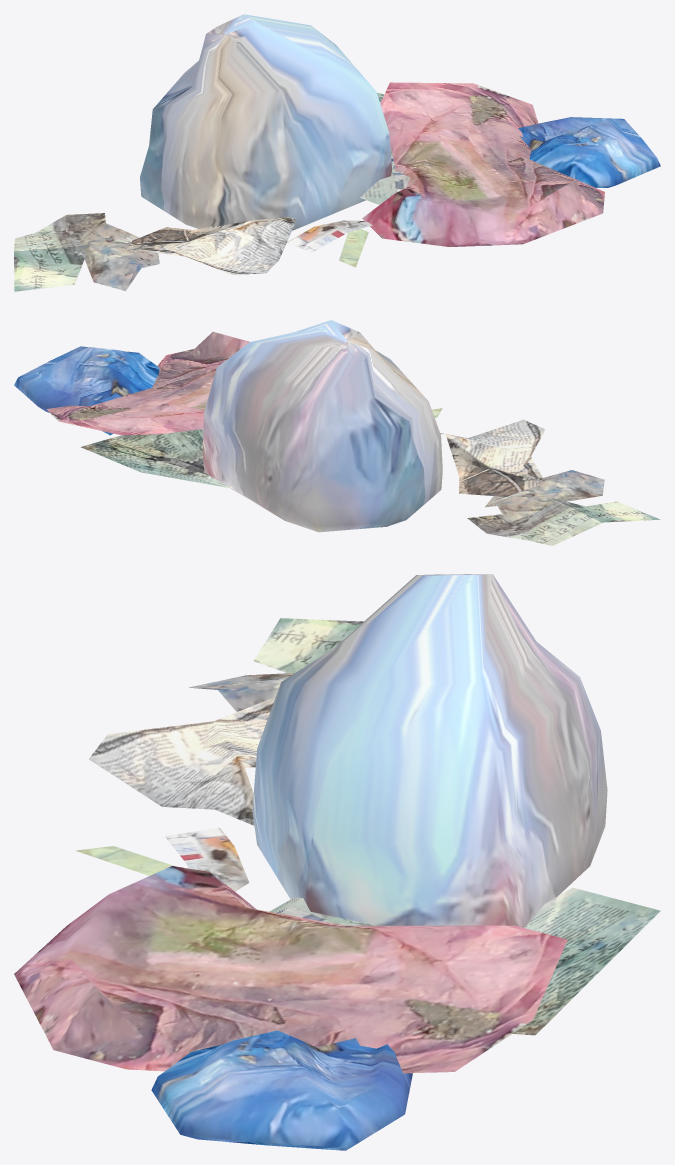
Rendered from prop_garbage_pile1.glb.
The picture shows the model from 3 angles, top to bottom: view 1: azimuth 30°, elevation 25°; view 2: azimuth 150°, elevation 25°; view 3: azimuth 270°, elevation 25°; orthographic projection. The views are drawn at different scales.
Parts seen in each view (by area): view 1: prop_garbage_pile1; view 2: prop_garbage_pile1; view 3: prop_garbage_pile1.
Boxes of the visible parts, x1,y1,x2,y2 form: prop_garbage_pile1: [14, 14, 660, 291]; prop_garbage_pile1: [14, 320, 660, 545]; prop_garbage_pile1: [14, 574, 660, 1150].
Size of the model in its own units: 2.71 by 0.7383 by 1.41.
Materials: 1 (1 with a texture image).
